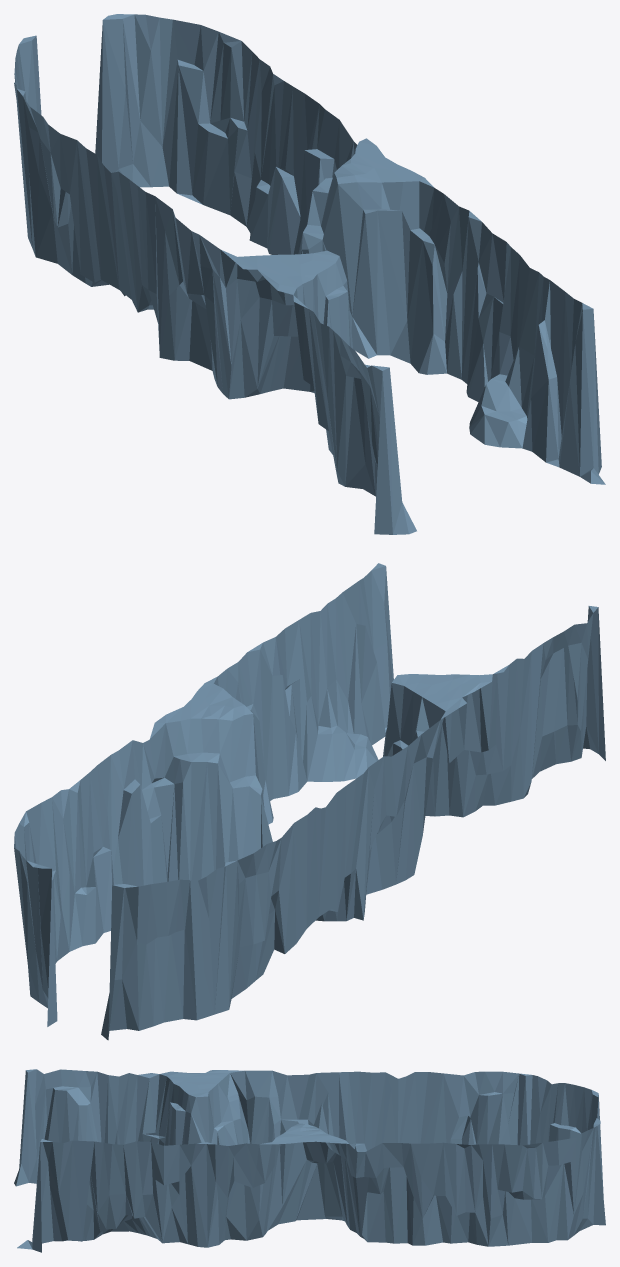
File: MainStageLow.fbx
The picture shows the model from 3 angles, top to bottom: view 1: azimuth 30°, elevation 25°; view 2: azimuth 150°, elevation 25°; view 3: azimuth 270°, elevation 25°; orthographic projection. The views are drawn at different scales.
Parts seen in each view (by area): view 1: MainStage; view 2: MainStage; view 3: MainStage.
Part boxes in pixels (<box>): MainStage: <box>14,14,605,534</box>; MainStage: <box>14,563,605,1040</box>; MainStage: <box>14,1069,605,1252</box>.
Size of the model in its own units: 20371 by 13247 by 65261.
